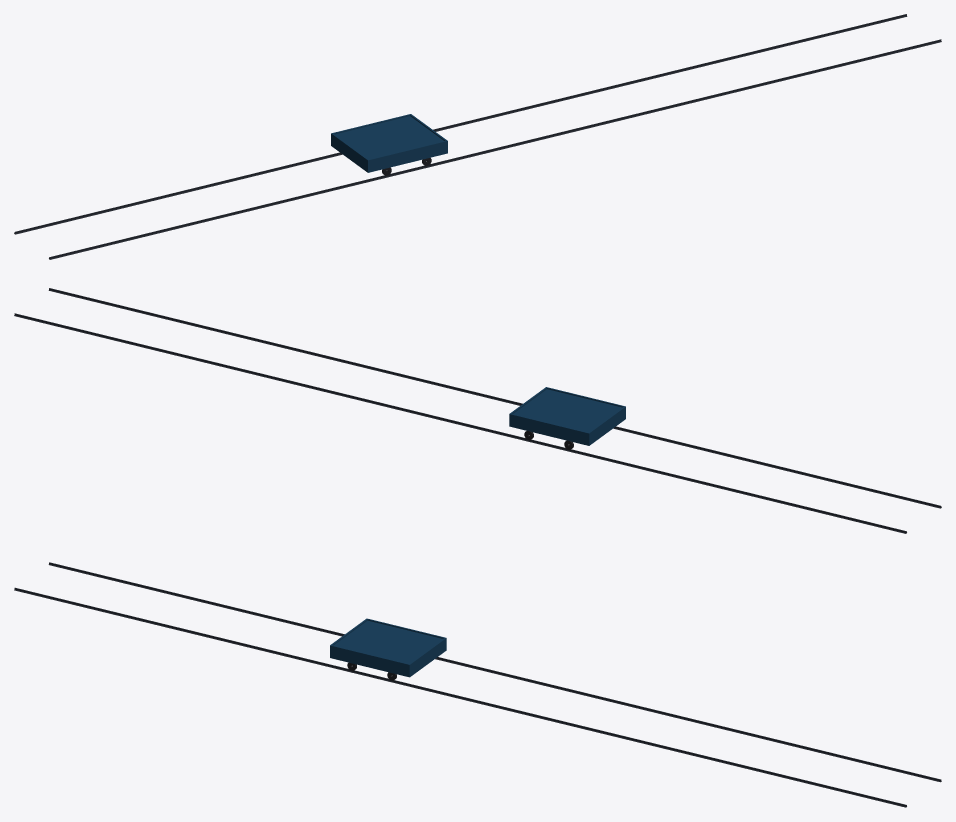
The model's file is XIAOCHE_OK.glb.
3 views of the same model, one above another, from view 1: azimuth 30°, elevation 25°; view 2: azimuth 150°, elevation 25°; view 3: azimuth 330°, elevation 25° (orthographic).
Parts seen in each view (by area): view 1: gui, che; view 2: gui, che; view 3: gui, che.
Boxes of the visible parts, x1,y1,x2,y2 form: gui: (14,14,941,259); che: (331,114,447,175); gui: (14,288,941,533); che: (509,387,625,449); gui: (14,562,941,807); che: (330,618,446,680).
Bounding box in the file's own units: 22.3 × 0.5506 × 1.61.
